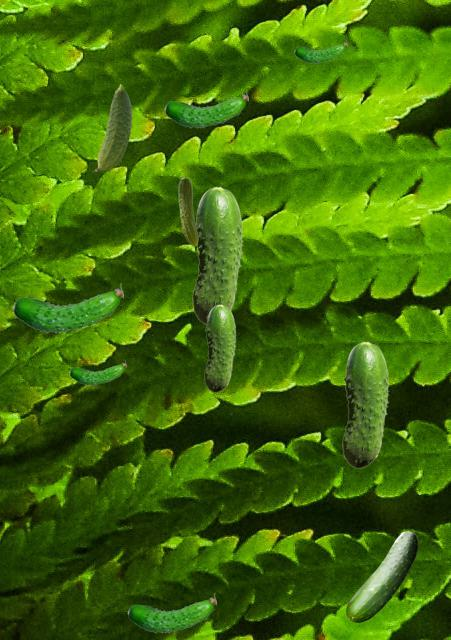cucumber: (192, 186, 242, 324), (346, 531, 416, 621), (342, 341, 388, 467), (12, 283, 122, 332), (127, 593, 215, 632), (92, 84, 131, 171), (164, 90, 247, 127), (204, 304, 235, 391), (69, 360, 125, 384), (178, 177, 197, 245), (294, 40, 346, 62)
